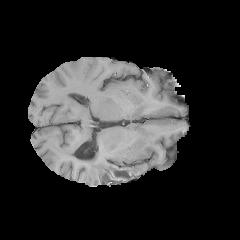glioma: (66, 151, 147, 182)
